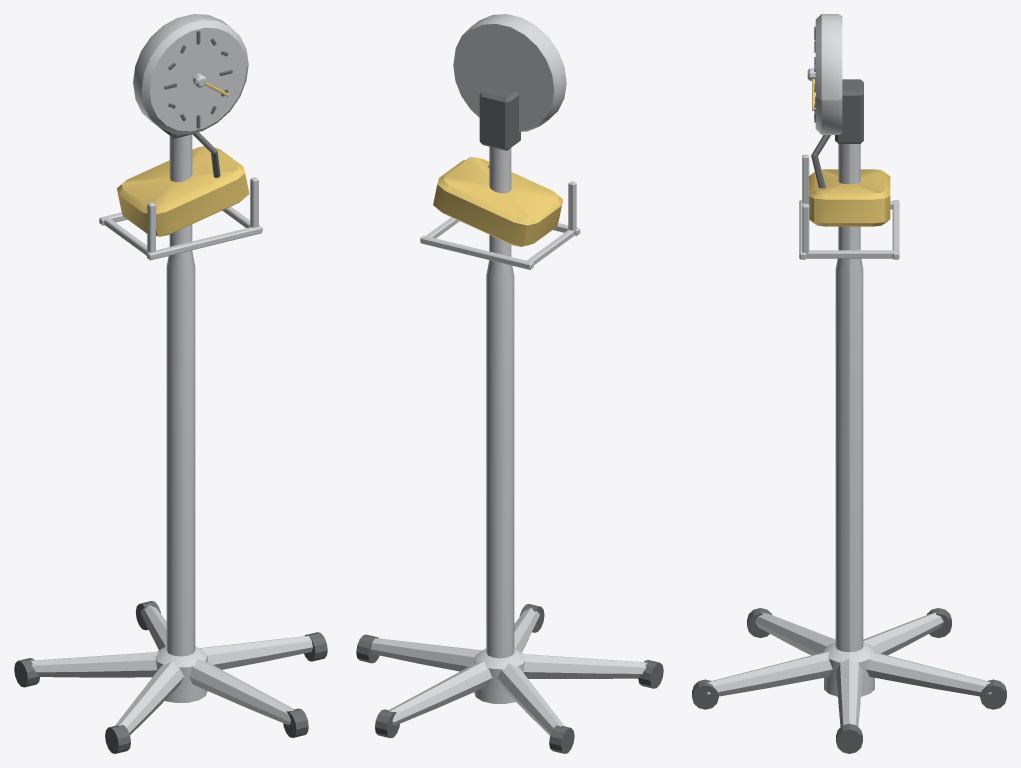
The model's file is clinic-and-veterinary-practice-blood-pressure-stand-4fe479c2__16741.glb.
3 views of the same model, side by side, from view 1: azimuth 30°, elevation 25°; view 2: azimuth 150°, elevation 25°; view 3: azimuth 270°, elevation 25° (orthographic). The views are drawn at different scales.
Parts seen in each view (by area): view 1: blood-pressure-stand; view 2: blood-pressure-stand; view 3: blood-pressure-stand.
Part boxes in pixels (x1,y1,x2,y2): blood-pressure-stand: (14, 14, 327, 753); blood-pressure-stand: (356, 14, 663, 753); blood-pressure-stand: (692, 14, 1006, 753).
Bounding box in the file's own units: 0.4943 × 1.26 × 0.5407.
